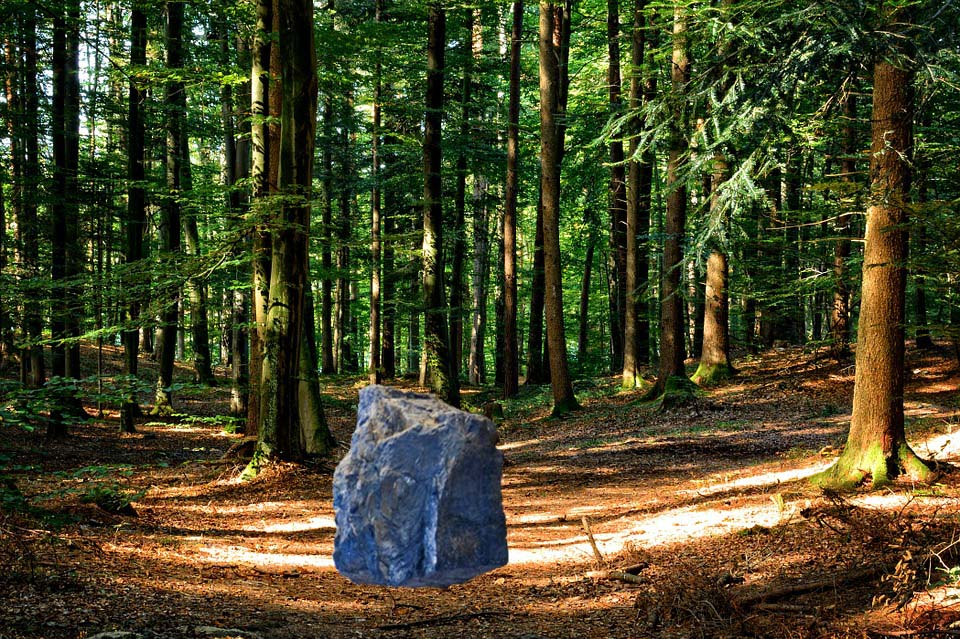Rocks: (329, 377, 513, 583)
